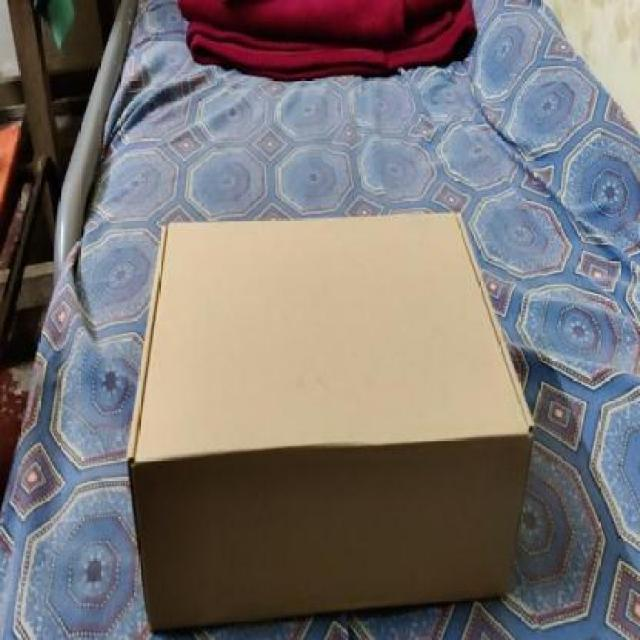box: (110, 205, 531, 640)
